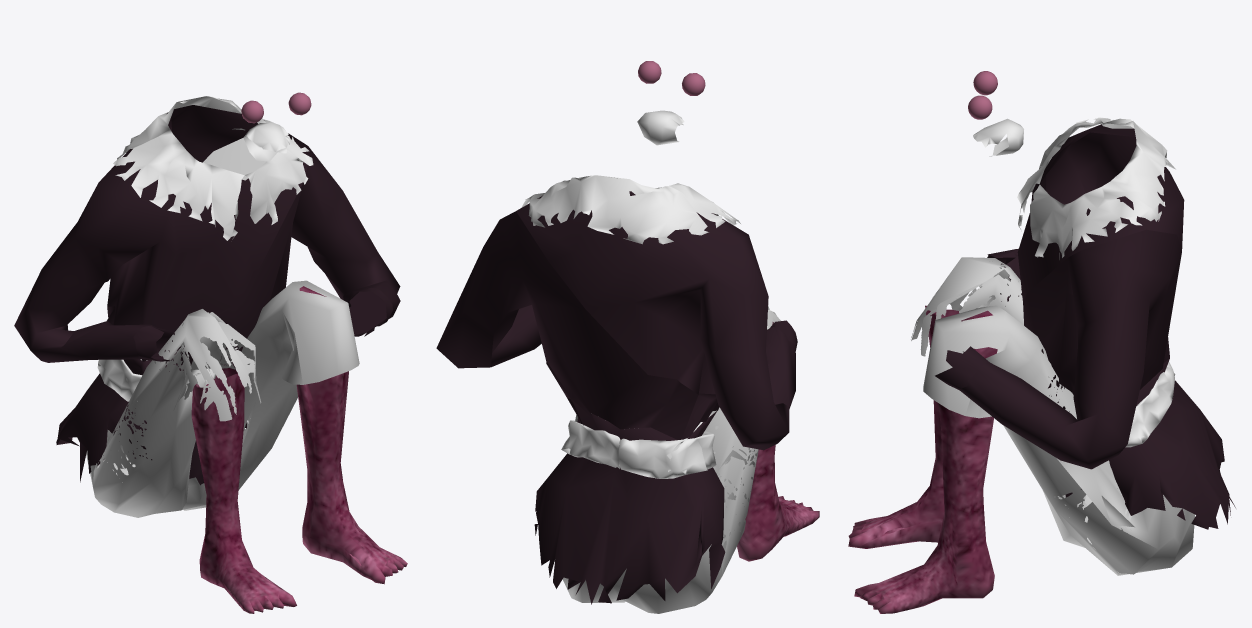
File: CatapultProjectile.fbx
The picture shows the model from 3 angles, left to right: view 1: azimuth 30°, elevation 25°; view 2: azimuth 150°, elevation 25°; view 3: azimuth 270°, elevation 25°; orthographic projection. The views are drawn at different scales.
Visible parts, largest first — view 1: 3rdPiece, 1stpiece, 2ndPiece; view 2: 1stpiece, 3rdPiece, 2ndPiece; view 3: 3rdPiece, 2ndPiece, 1stpiece.
Boxes of the visible parts, x1,y1,x2,y2 form: 3rdPiece: (56,280,407,613); 1stpiece: (14,92,313,362); 2ndPiece: (107,133,400,365); 1stpiece: (516,61,797,450); 3rdPiece: (534,305,819,613); 2ndPiece: (436,211,719,439); 3rdPiece: (848,257,1235,613); 2ndPiece: (935,229,1181,469); 1stpiece: (968,71,1184,302).
Bounding box in the file's own units: 11536 × 16286 × 10309.
